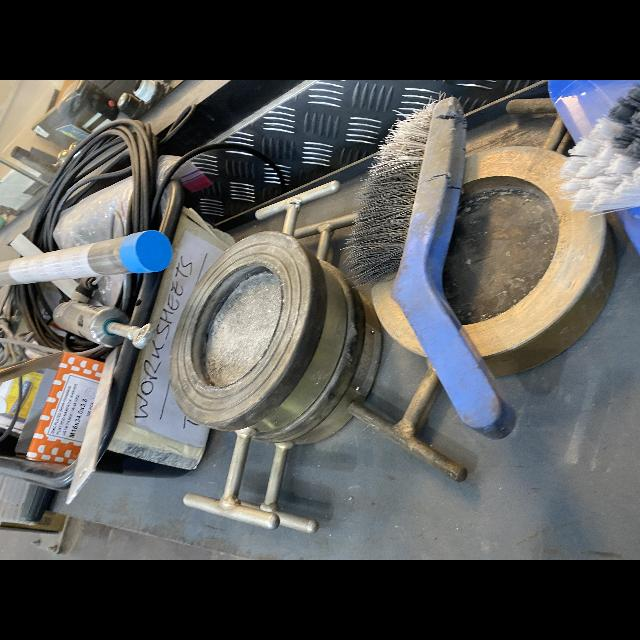Aluminium: (228, 80, 450, 185), (65, 348, 118, 505), (185, 151, 280, 223), (444, 80, 538, 113), (10, 233, 44, 257), (52, 279, 78, 298)
Ferrous Metal: (183, 267, 347, 530), (462, 113, 618, 378), (240, 291, 382, 534), (348, 280, 467, 482), (255, 180, 341, 235), (293, 214, 353, 260), (506, 98, 557, 113), (555, 131, 572, 154)
Stainless Steel: (53, 302, 155, 349)
